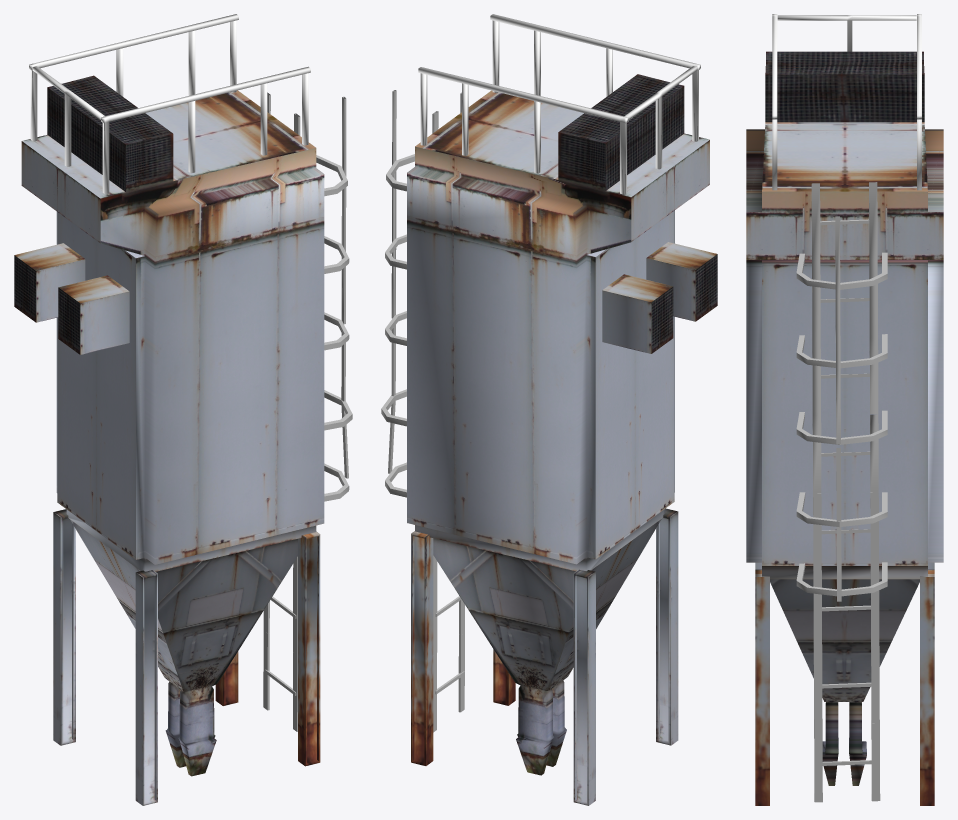
File: industrial21.fbx
3 views of the same model, side by side, from view 1: azimuth 30°, elevation 25°; view 2: azimuth 150°, elevation 25°; view 3: azimuth 270°, elevation 25° (orthographic).
Visible parts, largest first — view 1: U3DMesh; view 2: U3DMesh; view 3: U3DMesh.
Boxes of the visible parts, x1,y1,x2,y2 form: U3DMesh: (14,14,352,805); U3DMesh: (381,14,717,805); U3DMesh: (746,14,943,805).
Size of the model in its own units: 105 by 239 by 60.24.
